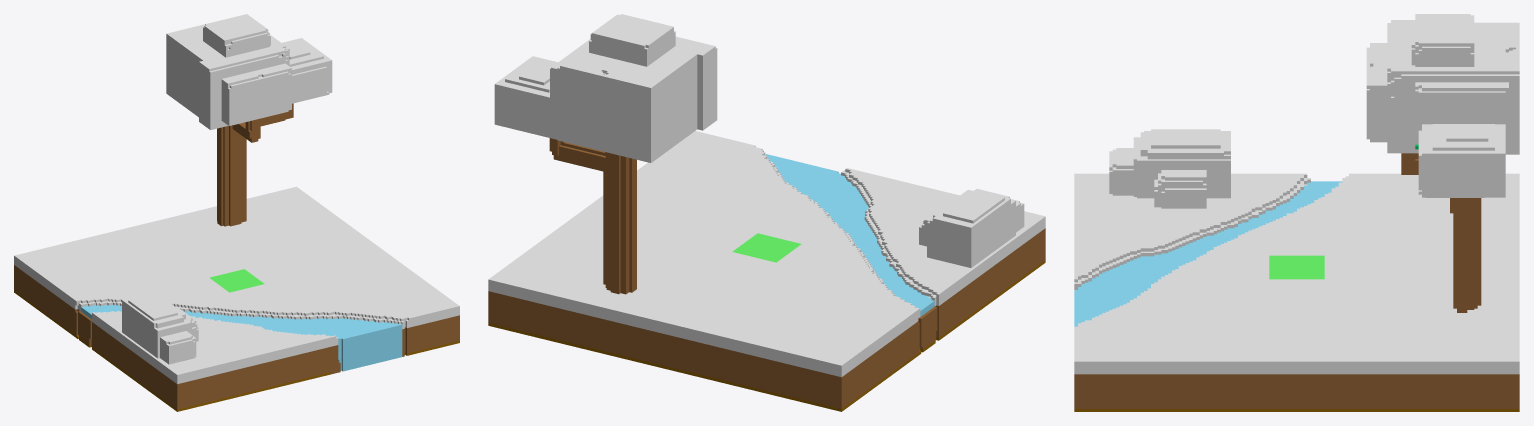
File: mapa-02-0.obj
3 renders of one model, left to right at view 1: azimuth 30°, elevation 25°; view 2: azimuth 150°, elevation 25°; view 3: azimuth 270°, elevation 25°, orthographic. The views are drawn at different scales.
Bounding box in the file's own units: 12.8 × 10.3 × 12.8.
Materials: 1 (1 with a texture image).
